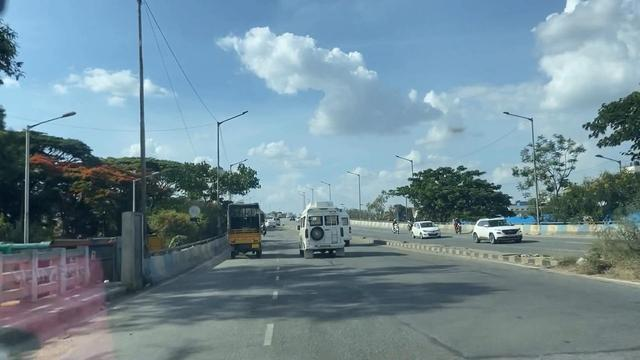HMV: (295, 202, 347, 259), (227, 205, 263, 266)
